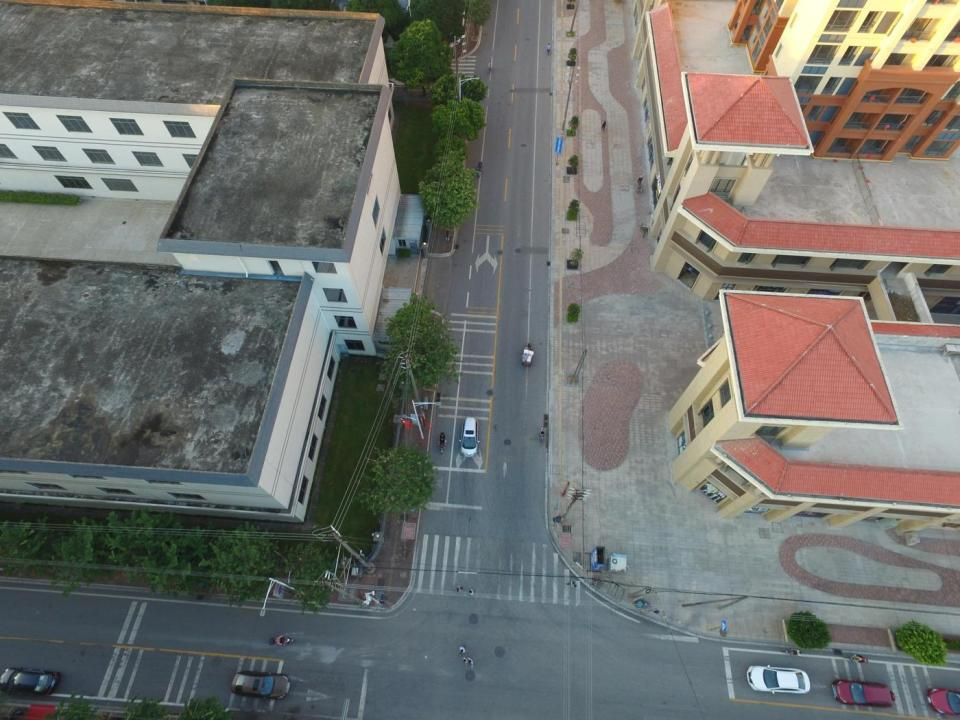car: (744, 662, 811, 696), (830, 678, 898, 708), (0, 666, 59, 698), (230, 669, 290, 700), (924, 684, 960, 716), (457, 415, 480, 456)
